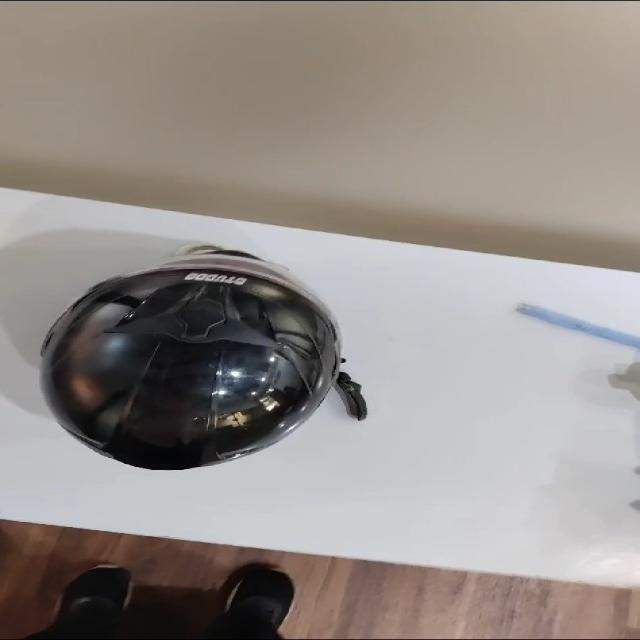helmet: (32, 244, 327, 483)
